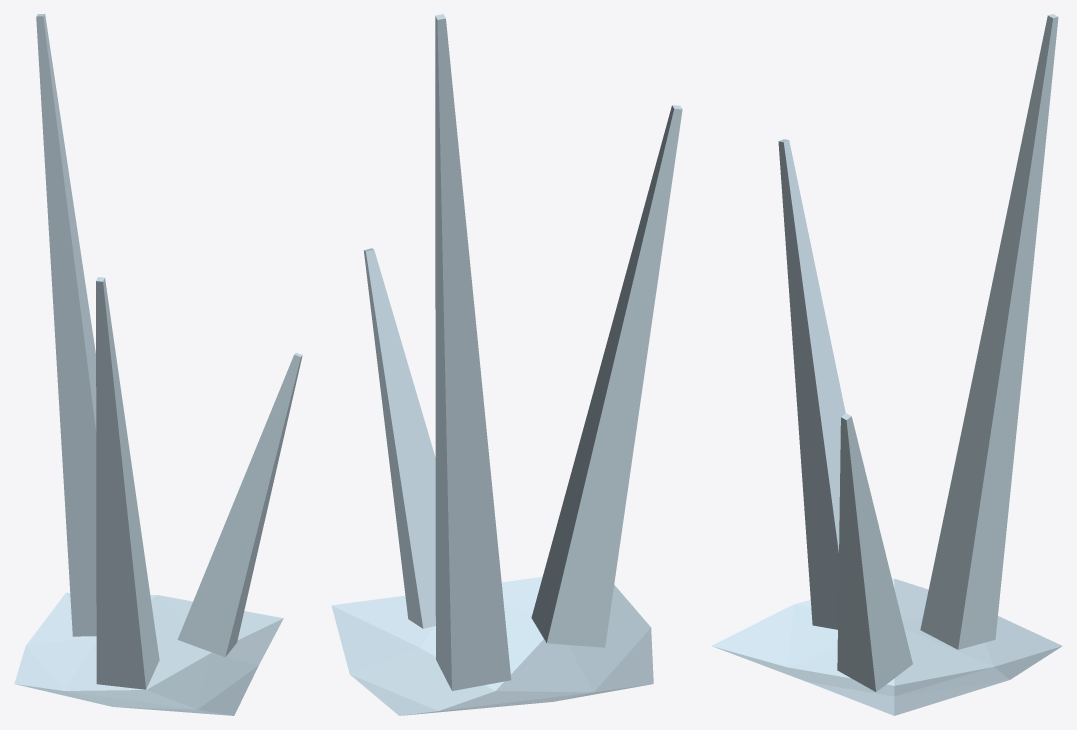
The model's file is ice_shard_v18.glb.
3 renders of one model, left to right at view 1: azimuth 30°, elevation 25°; view 2: azimuth 150°, elevation 25°; view 3: azimuth 270°, elevation 25°, orthographic. The views are drawn at different scales.
Parts seen in each view (by area): view 1: lod0; view 2: lod0; view 3: lod0.
Boxes of the visible parts, left/top/right/bottom form: lod0: left=14, top=14, right=302, bottom=715; lod0: left=331, top=14, right=682, bottom=715; lod0: left=711, top=14, right=1062, bottom=715.
Size of what is drawn, in the model's own units: 0.5994 by 1.33 by 0.6483.
